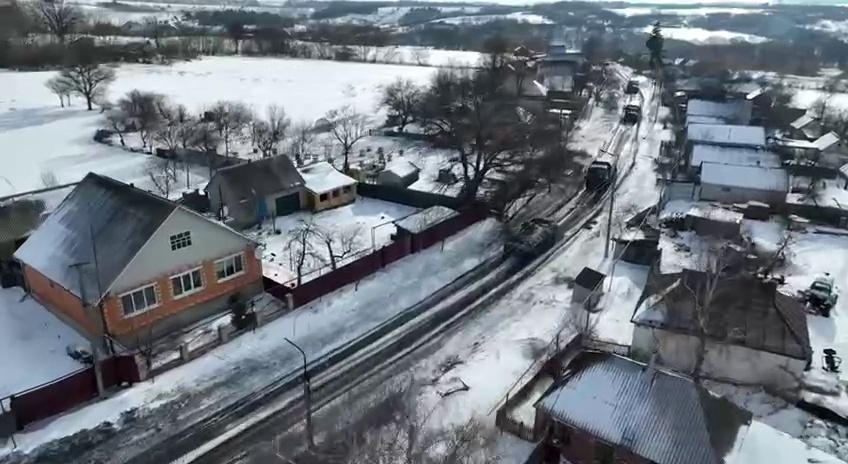tank: (504, 217, 558, 260)
truck: (585, 154, 618, 191), (622, 102, 642, 132), (625, 78, 641, 96)
